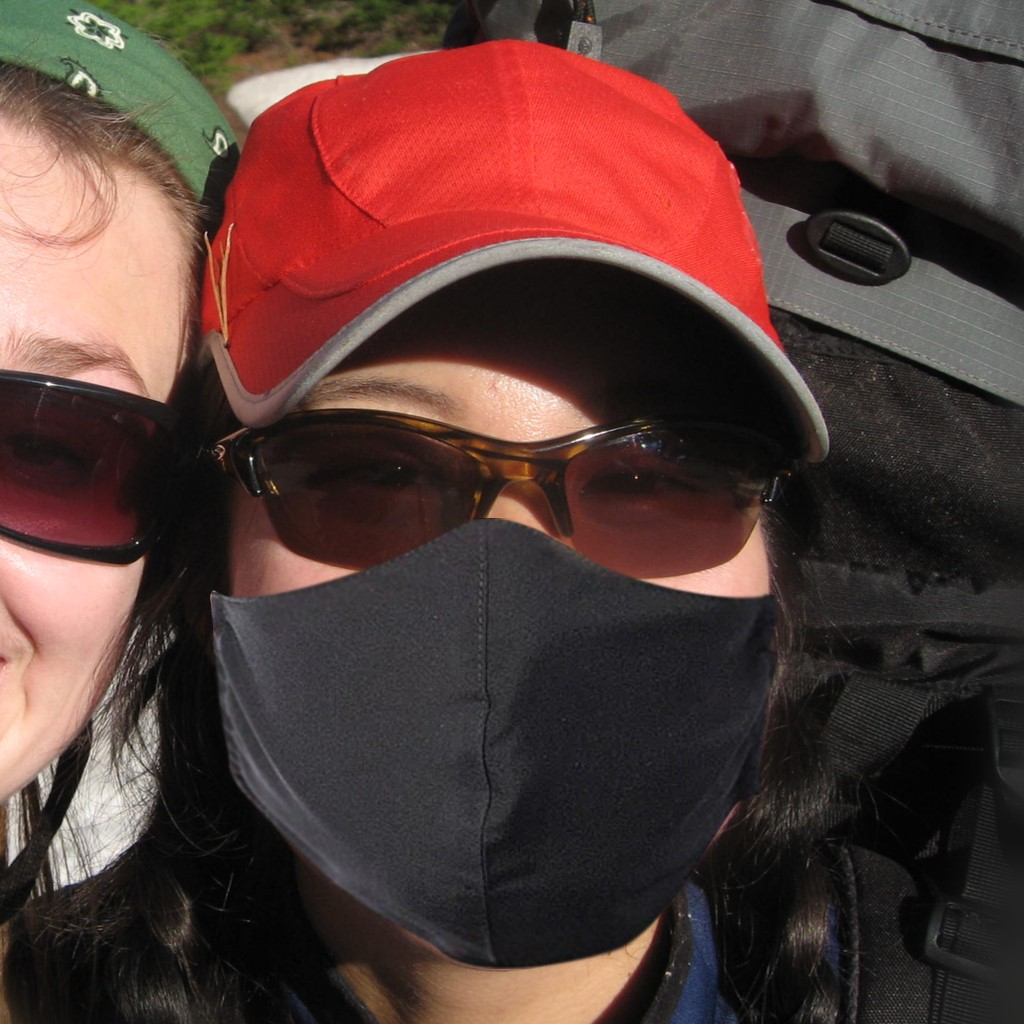con_mascara: (190, 87, 781, 936)
